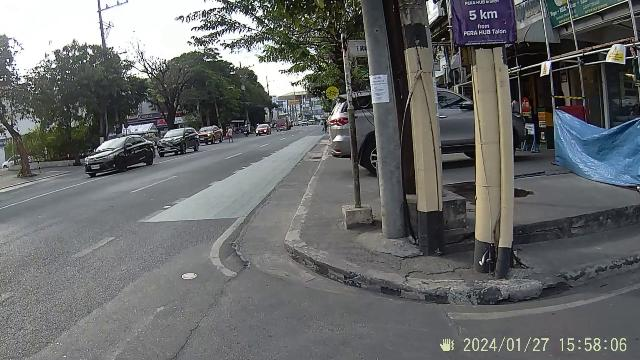street_sign: (341, 37, 372, 227)
utility_post: (468, 3, 516, 283), (405, 10, 447, 250)
